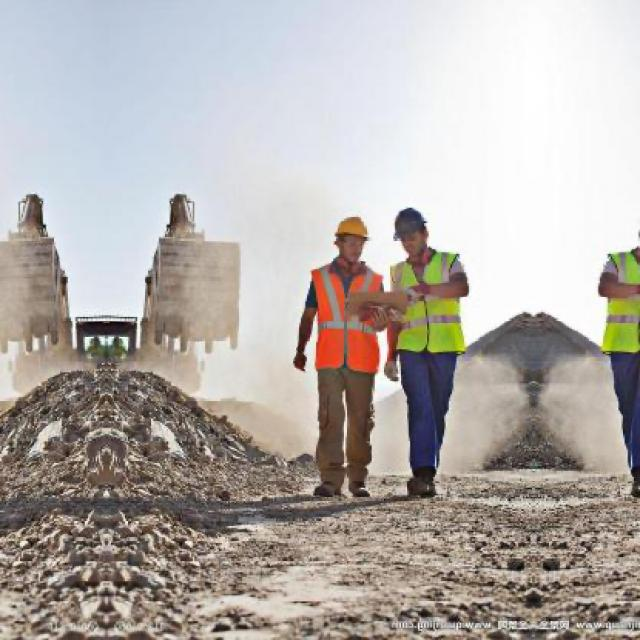helmet: (330, 206, 376, 269), (394, 202, 434, 262)
